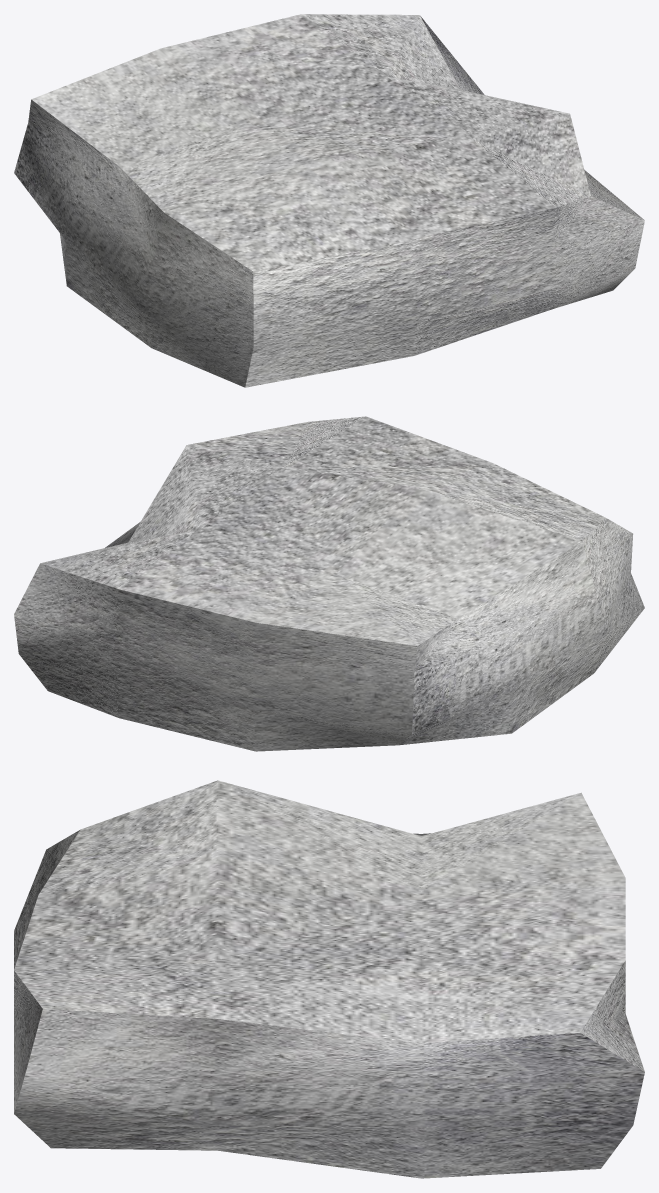
File: isi.obj
The picture shows the model from 3 angles, top to bottom: view 1: azimuth 30°, elevation 25°; view 2: azimuth 150°, elevation 25°; view 3: azimuth 270°, elevation 25°; orthographic projection. The views are drawn at different scales.
Parts seen in each view (by area): view 1: pCube1; view 2: pCube1; view 3: pCube1.
Part boxes in pixels (bbox=[...]): pCube1: bbox=[14, 14, 644, 387]; pCube1: bbox=[14, 416, 644, 751]; pCube1: bbox=[14, 780, 644, 1178].
Bounding box in the file's own units: 1.15 × 0.3731 × 1.21.
1 material, 1 textured.
